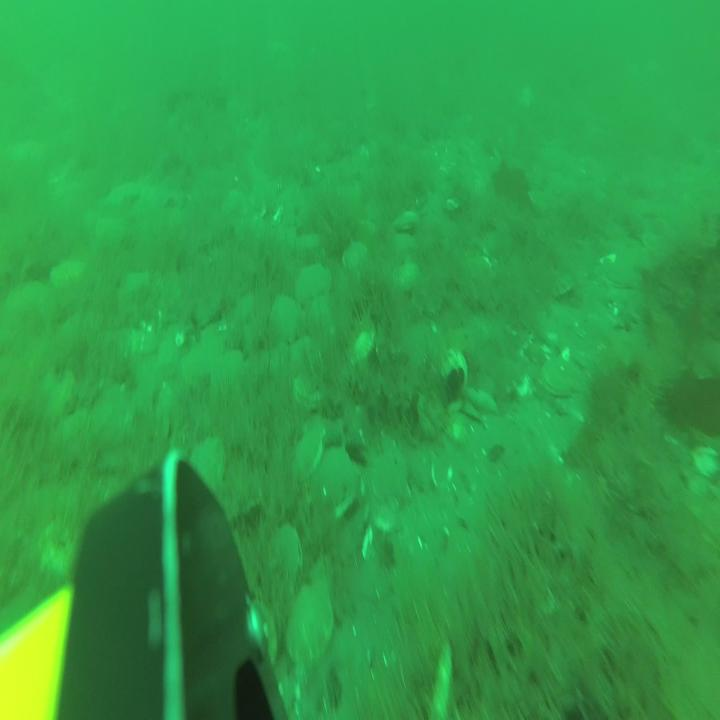scallop: (288, 587, 332, 665), (369, 444, 411, 518), (313, 452, 355, 518), (292, 427, 328, 486), (190, 429, 226, 485), (184, 334, 224, 384), (272, 521, 300, 586), (270, 292, 305, 336), (541, 355, 575, 400), (290, 335, 324, 380), (214, 344, 243, 394), (348, 318, 378, 366), (52, 258, 88, 296), (293, 372, 323, 416), (297, 264, 329, 304), (252, 176, 281, 210), (222, 186, 247, 221), (392, 260, 423, 288), (396, 203, 420, 239), (341, 240, 366, 270)
